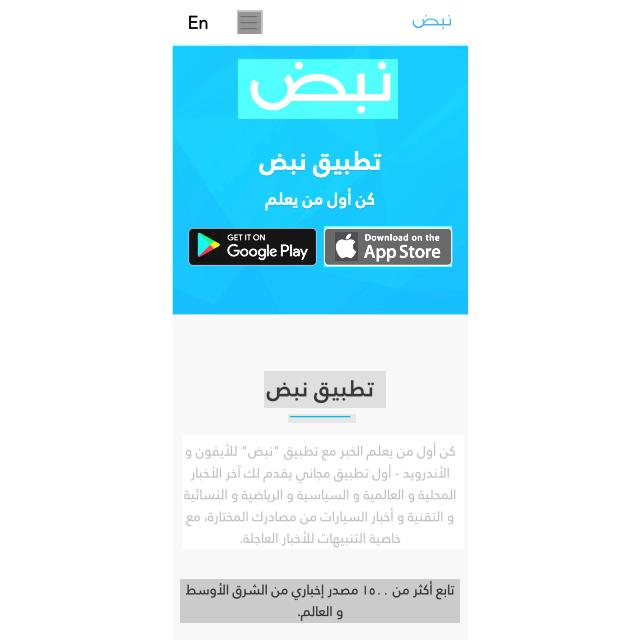CheckBox: (324, 226, 452, 267), (188, 229, 316, 266)
Input field: (182, 435, 464, 549), (180, 579, 460, 623)
accordion: (288, 414, 356, 423), (218, 0, 230, 44)
bag: (168, 0, 469, 46)
breadcrumbs: (264, 371, 386, 408)
card: (171, 45, 469, 314)
carousel: (238, 12, 261, 34)
date picker: (408, 11, 456, 34), (195, 232, 221, 262), (335, 232, 358, 261)
decoration: (237, 10, 263, 34)
image: (238, 59, 398, 119)
